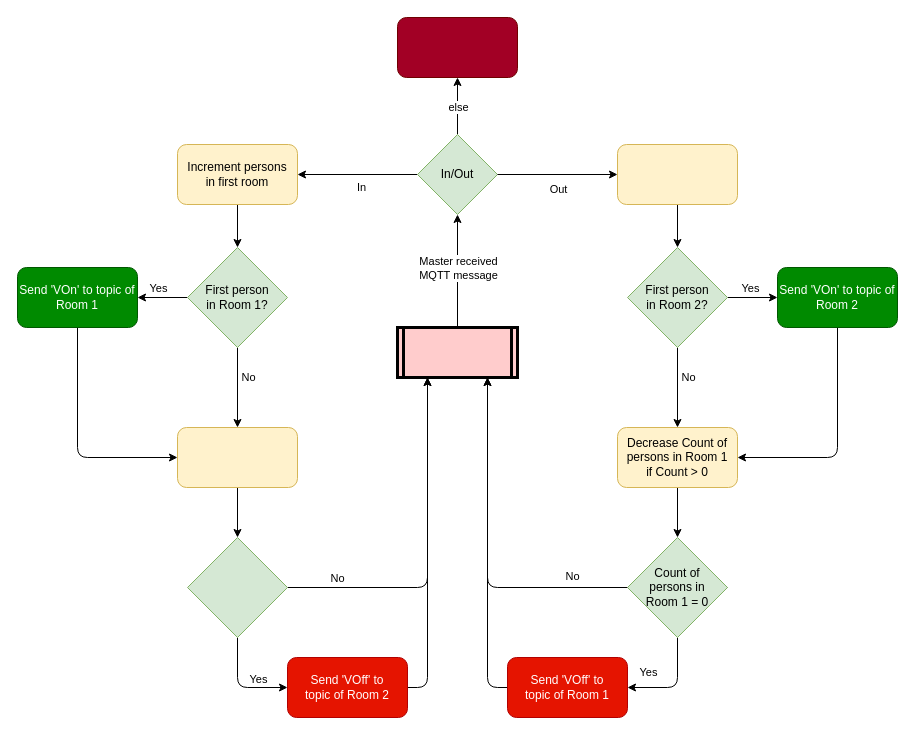
This 915x735 diagram has some shape labels left out. Here are the shapes that lost their labels. From the top down, the centre of each, then its label:
(x=457, y=47): Ignore message
(x=677, y=174): Increment persons in second room
(x=457, y=352): SMART AUDIO MASTER
(x=237, y=457): Decrease Count of persons in Room 2 if Count > 0
(x=237, y=587): Count of persons in Room 2 = 0
